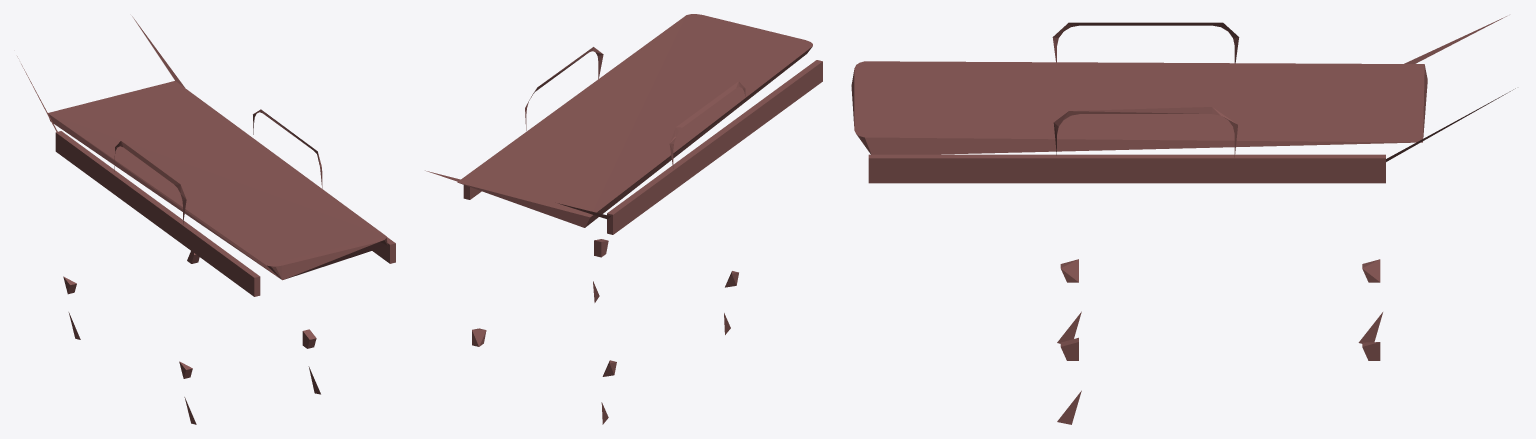
The model's file is stretcher.lod2.glb.
The picture shows the model from 3 angles, left to right: view 1: azimuth 30°, elevation 25°; view 2: azimuth 150°, elevation 25°; view 3: azimuth 270°, elevation 25°; orthographic projection. The views are drawn at different scales.
Visible parts, largest first — view 1: Stretcher_Material #82_0; view 2: Stretcher_Material #82_0; view 3: Stretcher_Material #82_0.
Part boxes in pixels (box(x1,y1,x2,y2)): Stretcher_Material #82_0: box(17, 16, 395, 424); Stretcher_Material #82_0: box(425, 14, 822, 424); Stretcher_Material #82_0: box(851, 16, 1515, 424).
Bounding box in the file's own units: 0.6783 × 1.17 × 2.14.
